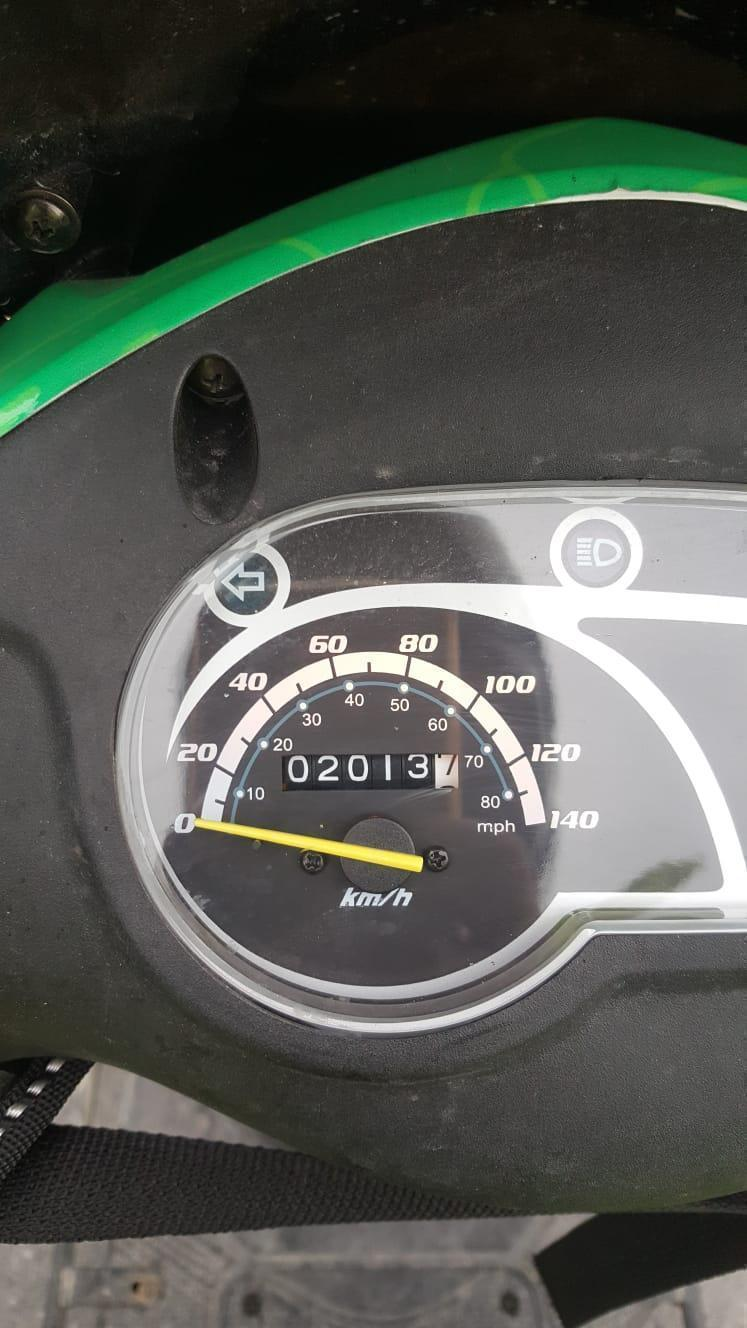0: (346, 753, 370, 783), (287, 754, 310, 783)
1: (382, 751, 393, 786)
2: (315, 754, 340, 785)
3: (406, 751, 429, 782)
7: (435, 752, 459, 776)
odometer: (278, 752, 462, 794)
